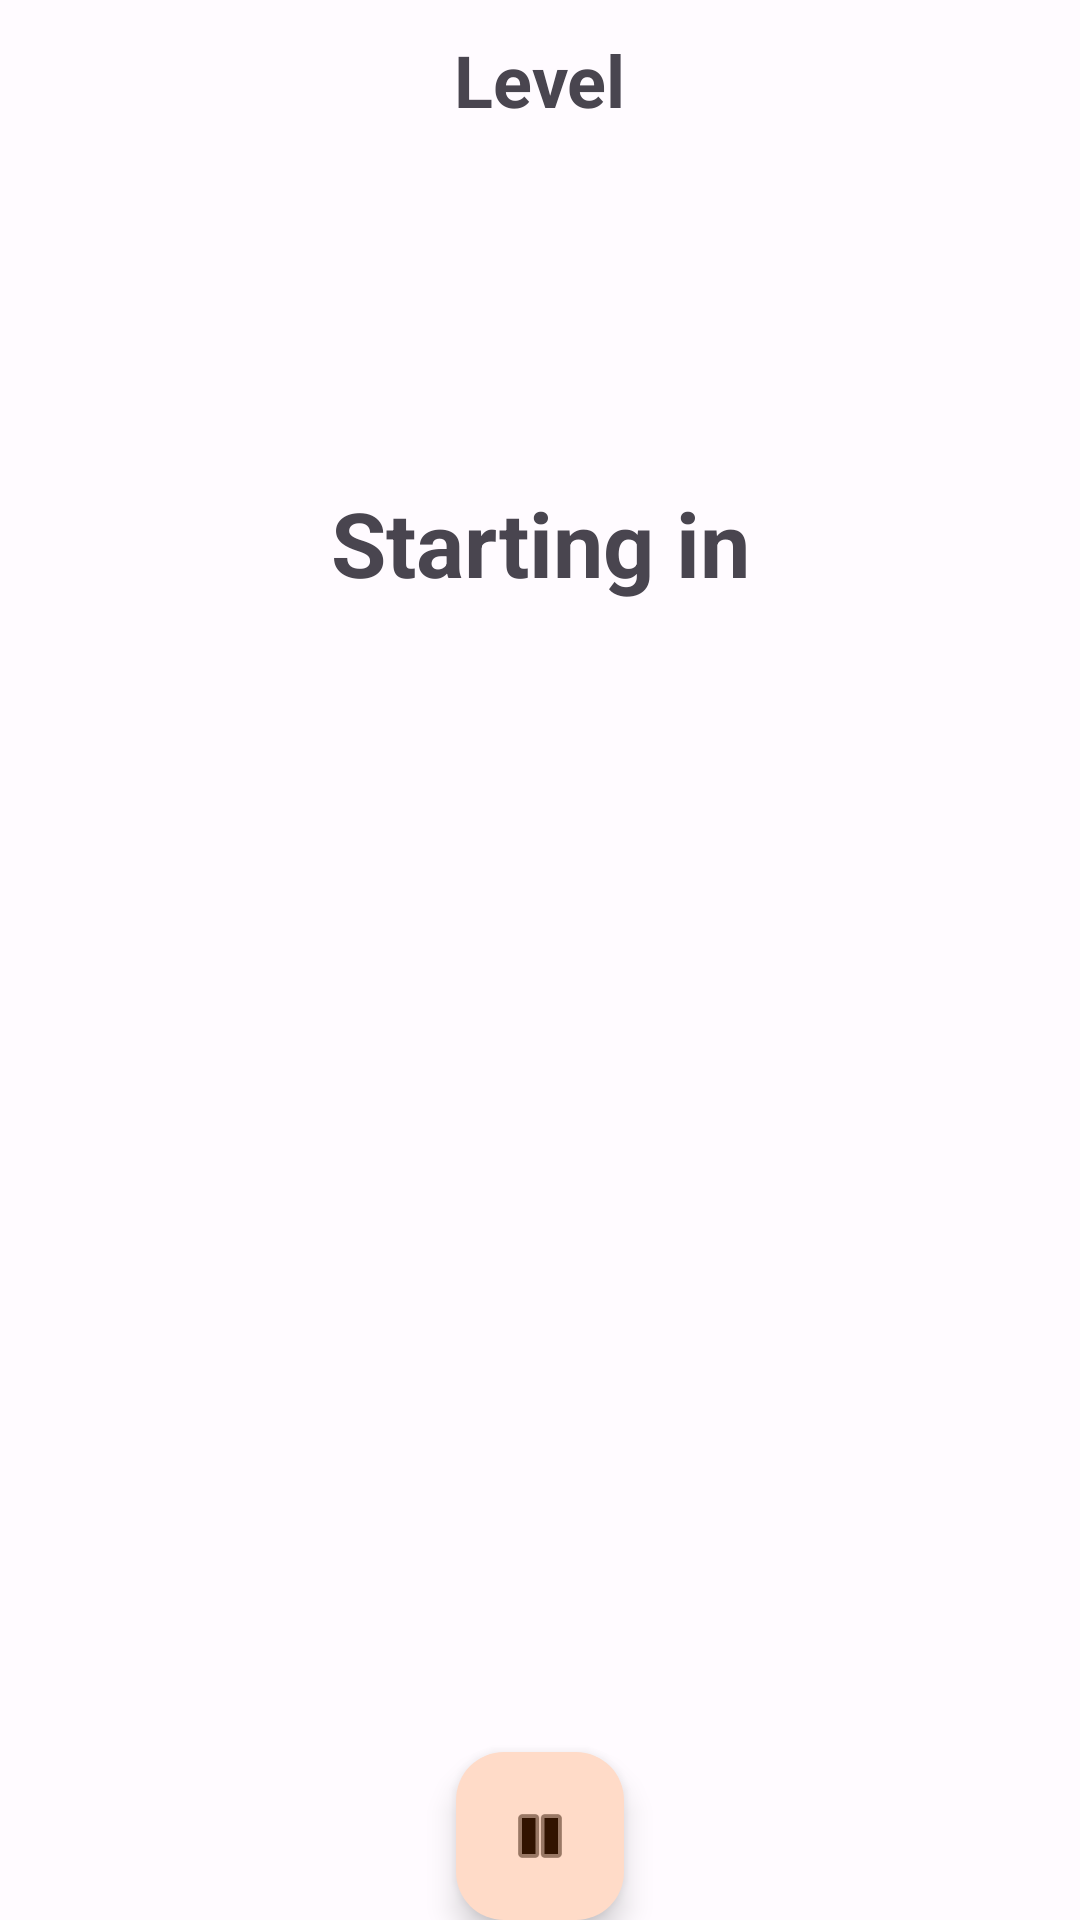

Named icons in this screenshot (1080*1920) and their centers, point (x, y):
pause: point (540, 1836)
